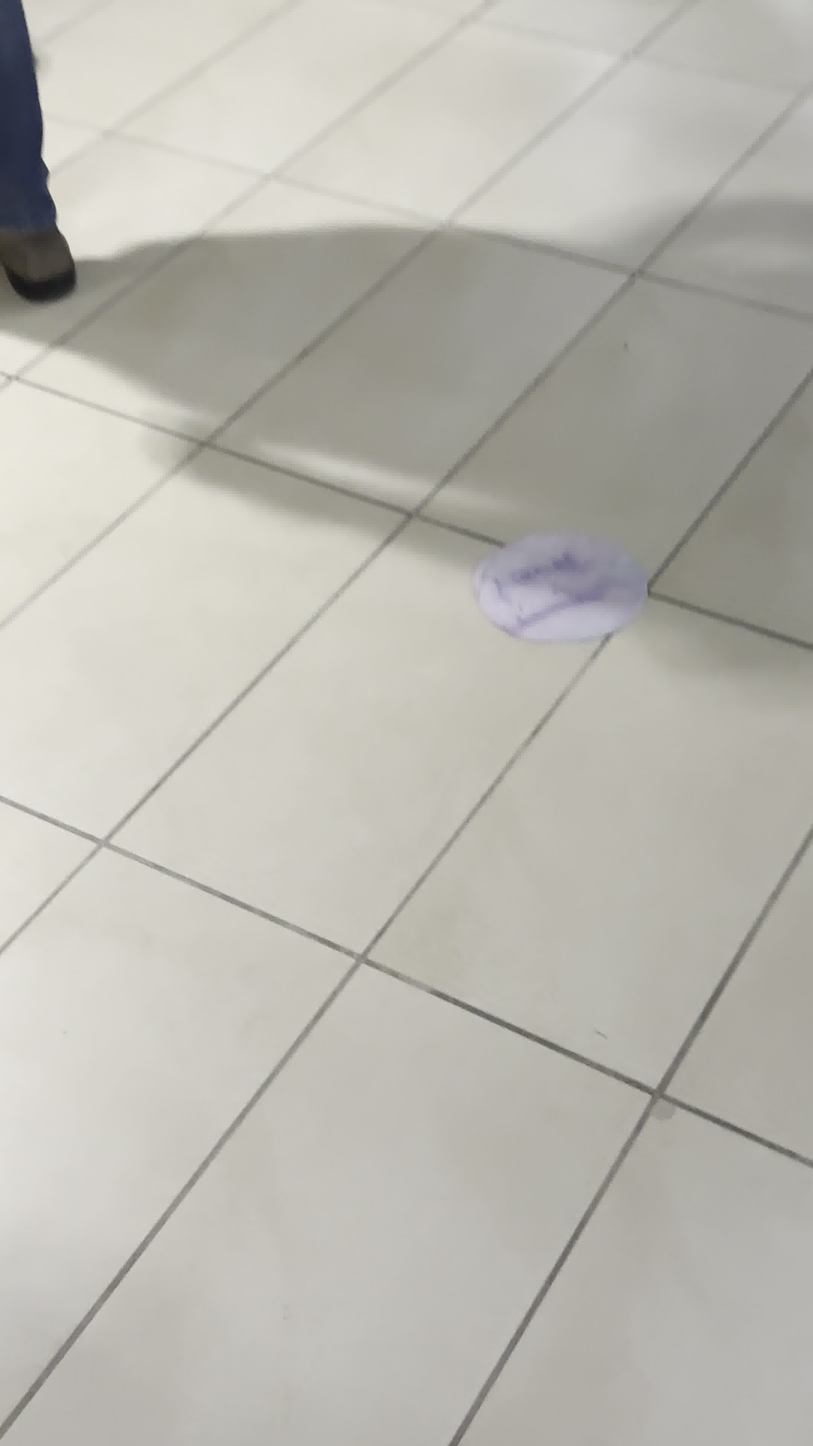Target: (481, 532, 653, 645)
